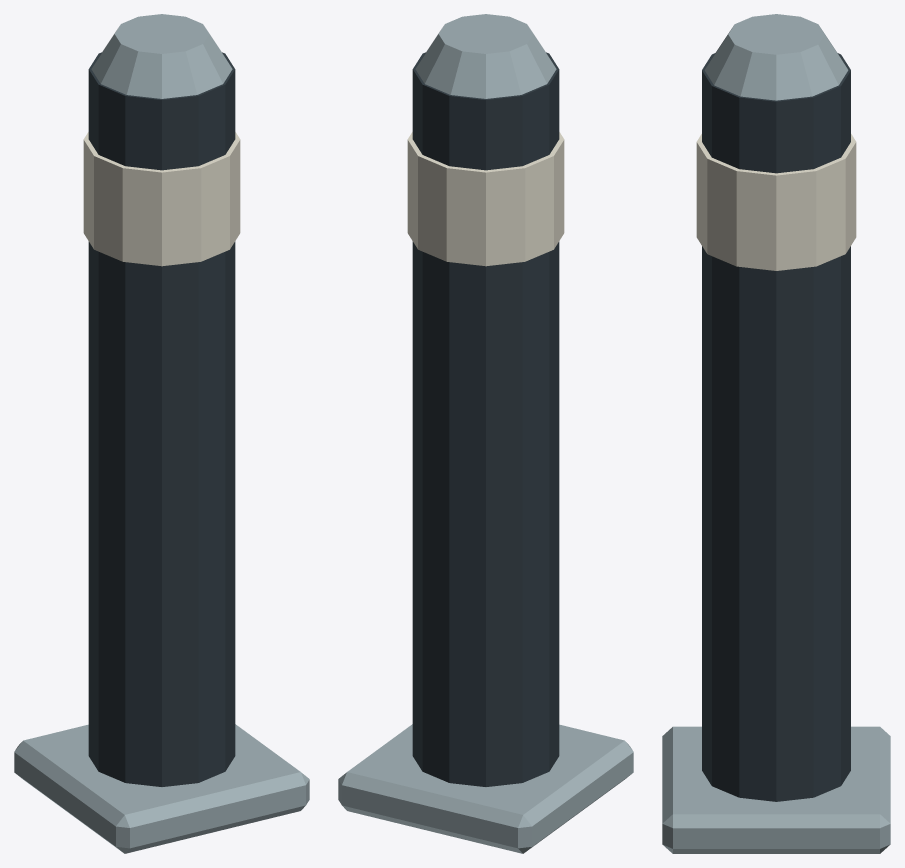
The model's file is Bollard_Round.glb.
3 renders of one model, left to right at view 1: azimuth 30°, elevation 25°; view 2: azimuth 150°, elevation 25°; view 3: azimuth 270°, elevation 25°, orthographic.
Parts seen in each view (by area): view 1: Bollard_Round; view 2: Bollard_Round; view 3: Bollard_Round.
Boxes of the visible parts, x1,y1,x2,y2 form: Bollard_Round: (14,14,309,853); Bollard_Round: (338,14,633,853); Bollard_Round: (662,14,890,853).
Bounding box in the file's own units: 0.26 × 0.975 × 0.26.
